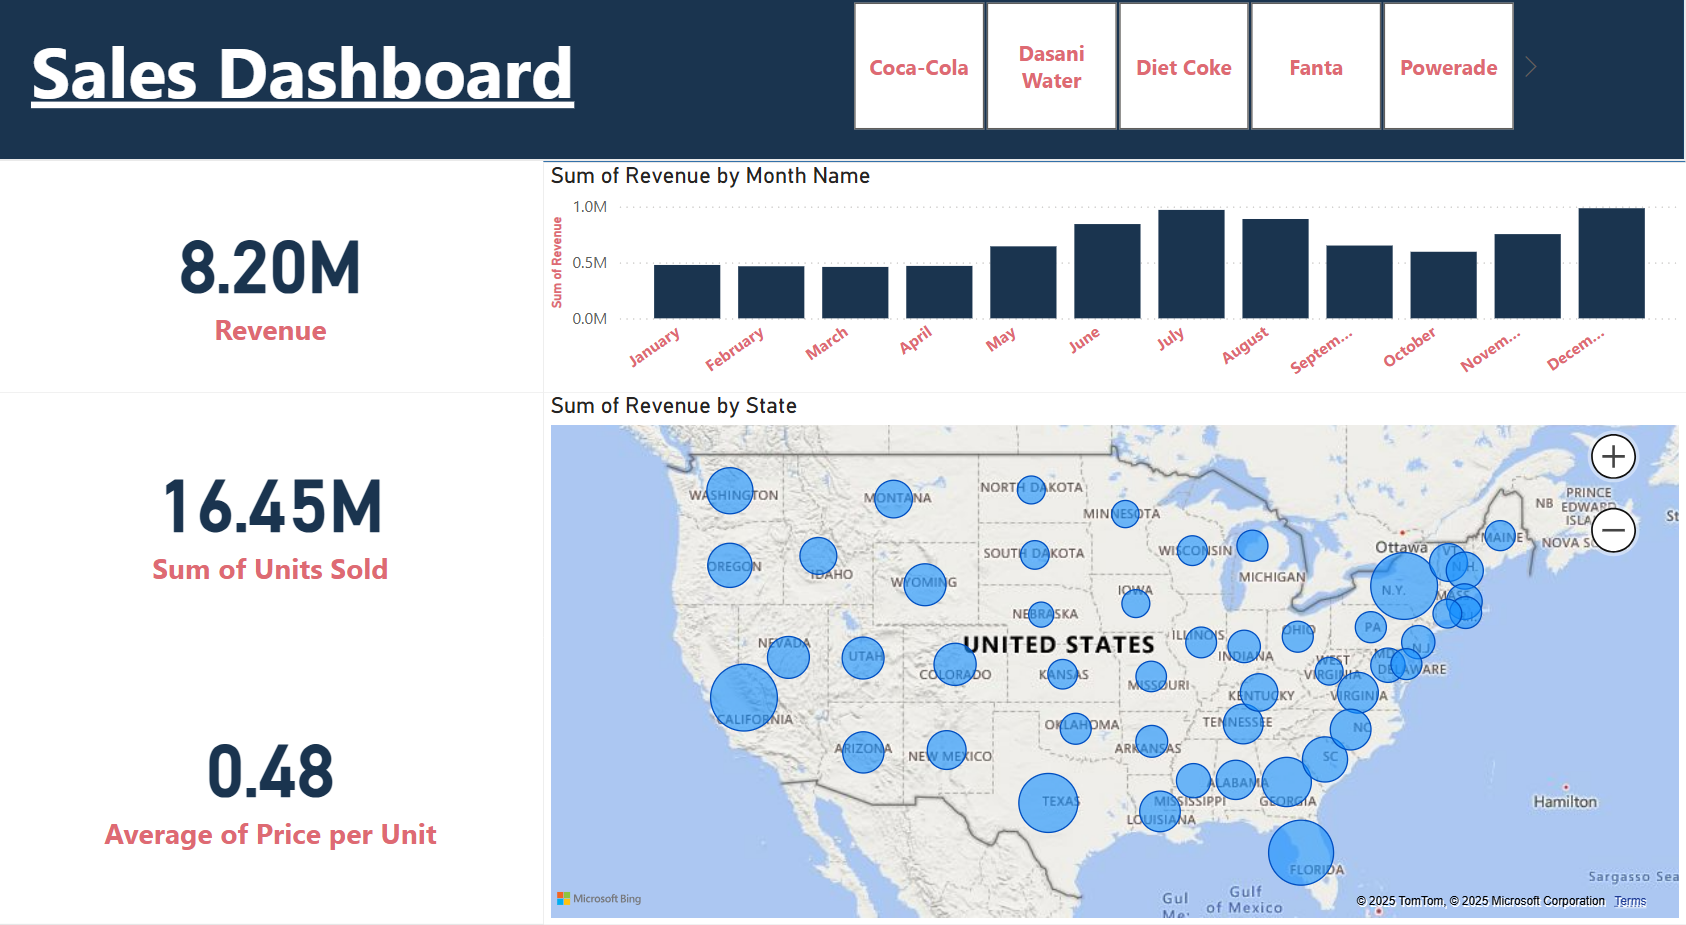

What the dashboard file says about the page in this screenshot:
{"tool":"powerbi","page":{"name":"Page 1","canvas":[1280,720],"ordinal":0},"visuals":[{"type":"shape","box":[0,0,1279.4,141.7],"z":0},{"type":"card","fields":{"Values":["Sum(Data.Revenue)"]},"box":[0,141.7,413.3,175.3],"z":1000},{"type":"card","fields":{"Values":["Sum(Data.Units Sold)"]},"box":[0,316.9,413.3,185.5],"z":2000},{"type":"card","fields":{"Values":["Avg(Data.Price per Unit)"]},"box":[0,502.4,413.3,217.6],"z":3000},{"type":"columnChart","fields":{"Y":["Sum(Data.Revenue)"],"Category":["Data.Month Name"]},"box":[413.3,143.1,866,173.8],"z":4000},{"type":"map","fields":{"Size":["Sum(Data.Revenue)"],"Category":["Data.State"]},"box":[413.3,316.9,866,403.1],"z":5000},{"type":"slicer","fields":{"Values":["Data.Beverage Brand"]},"box":[624.1,0,550,124.1],"z":6000}]}

Visuals, with their boxes in screenshot pixels (x1, y1, x2, y2), scaled from the page's 1280x720 canvas onto the 1686x925 screenshot:
shape: bbox=[0, 0, 1685, 182]
card - Sum(Data.Revenue): bbox=[0, 182, 544, 407]
card - Sum(Data.Units Sold): bbox=[0, 407, 544, 645]
card - Avg(Data.Price per Unit): bbox=[0, 645, 544, 924]
columnChart - Sum(Data.Revenue) x Data.Month Name: bbox=[544, 184, 1685, 407]
map - Sum(Data.Revenue) x Data.State: bbox=[544, 407, 1685, 924]
slicer - Data.Beverage Brand: bbox=[822, 0, 1547, 159]
